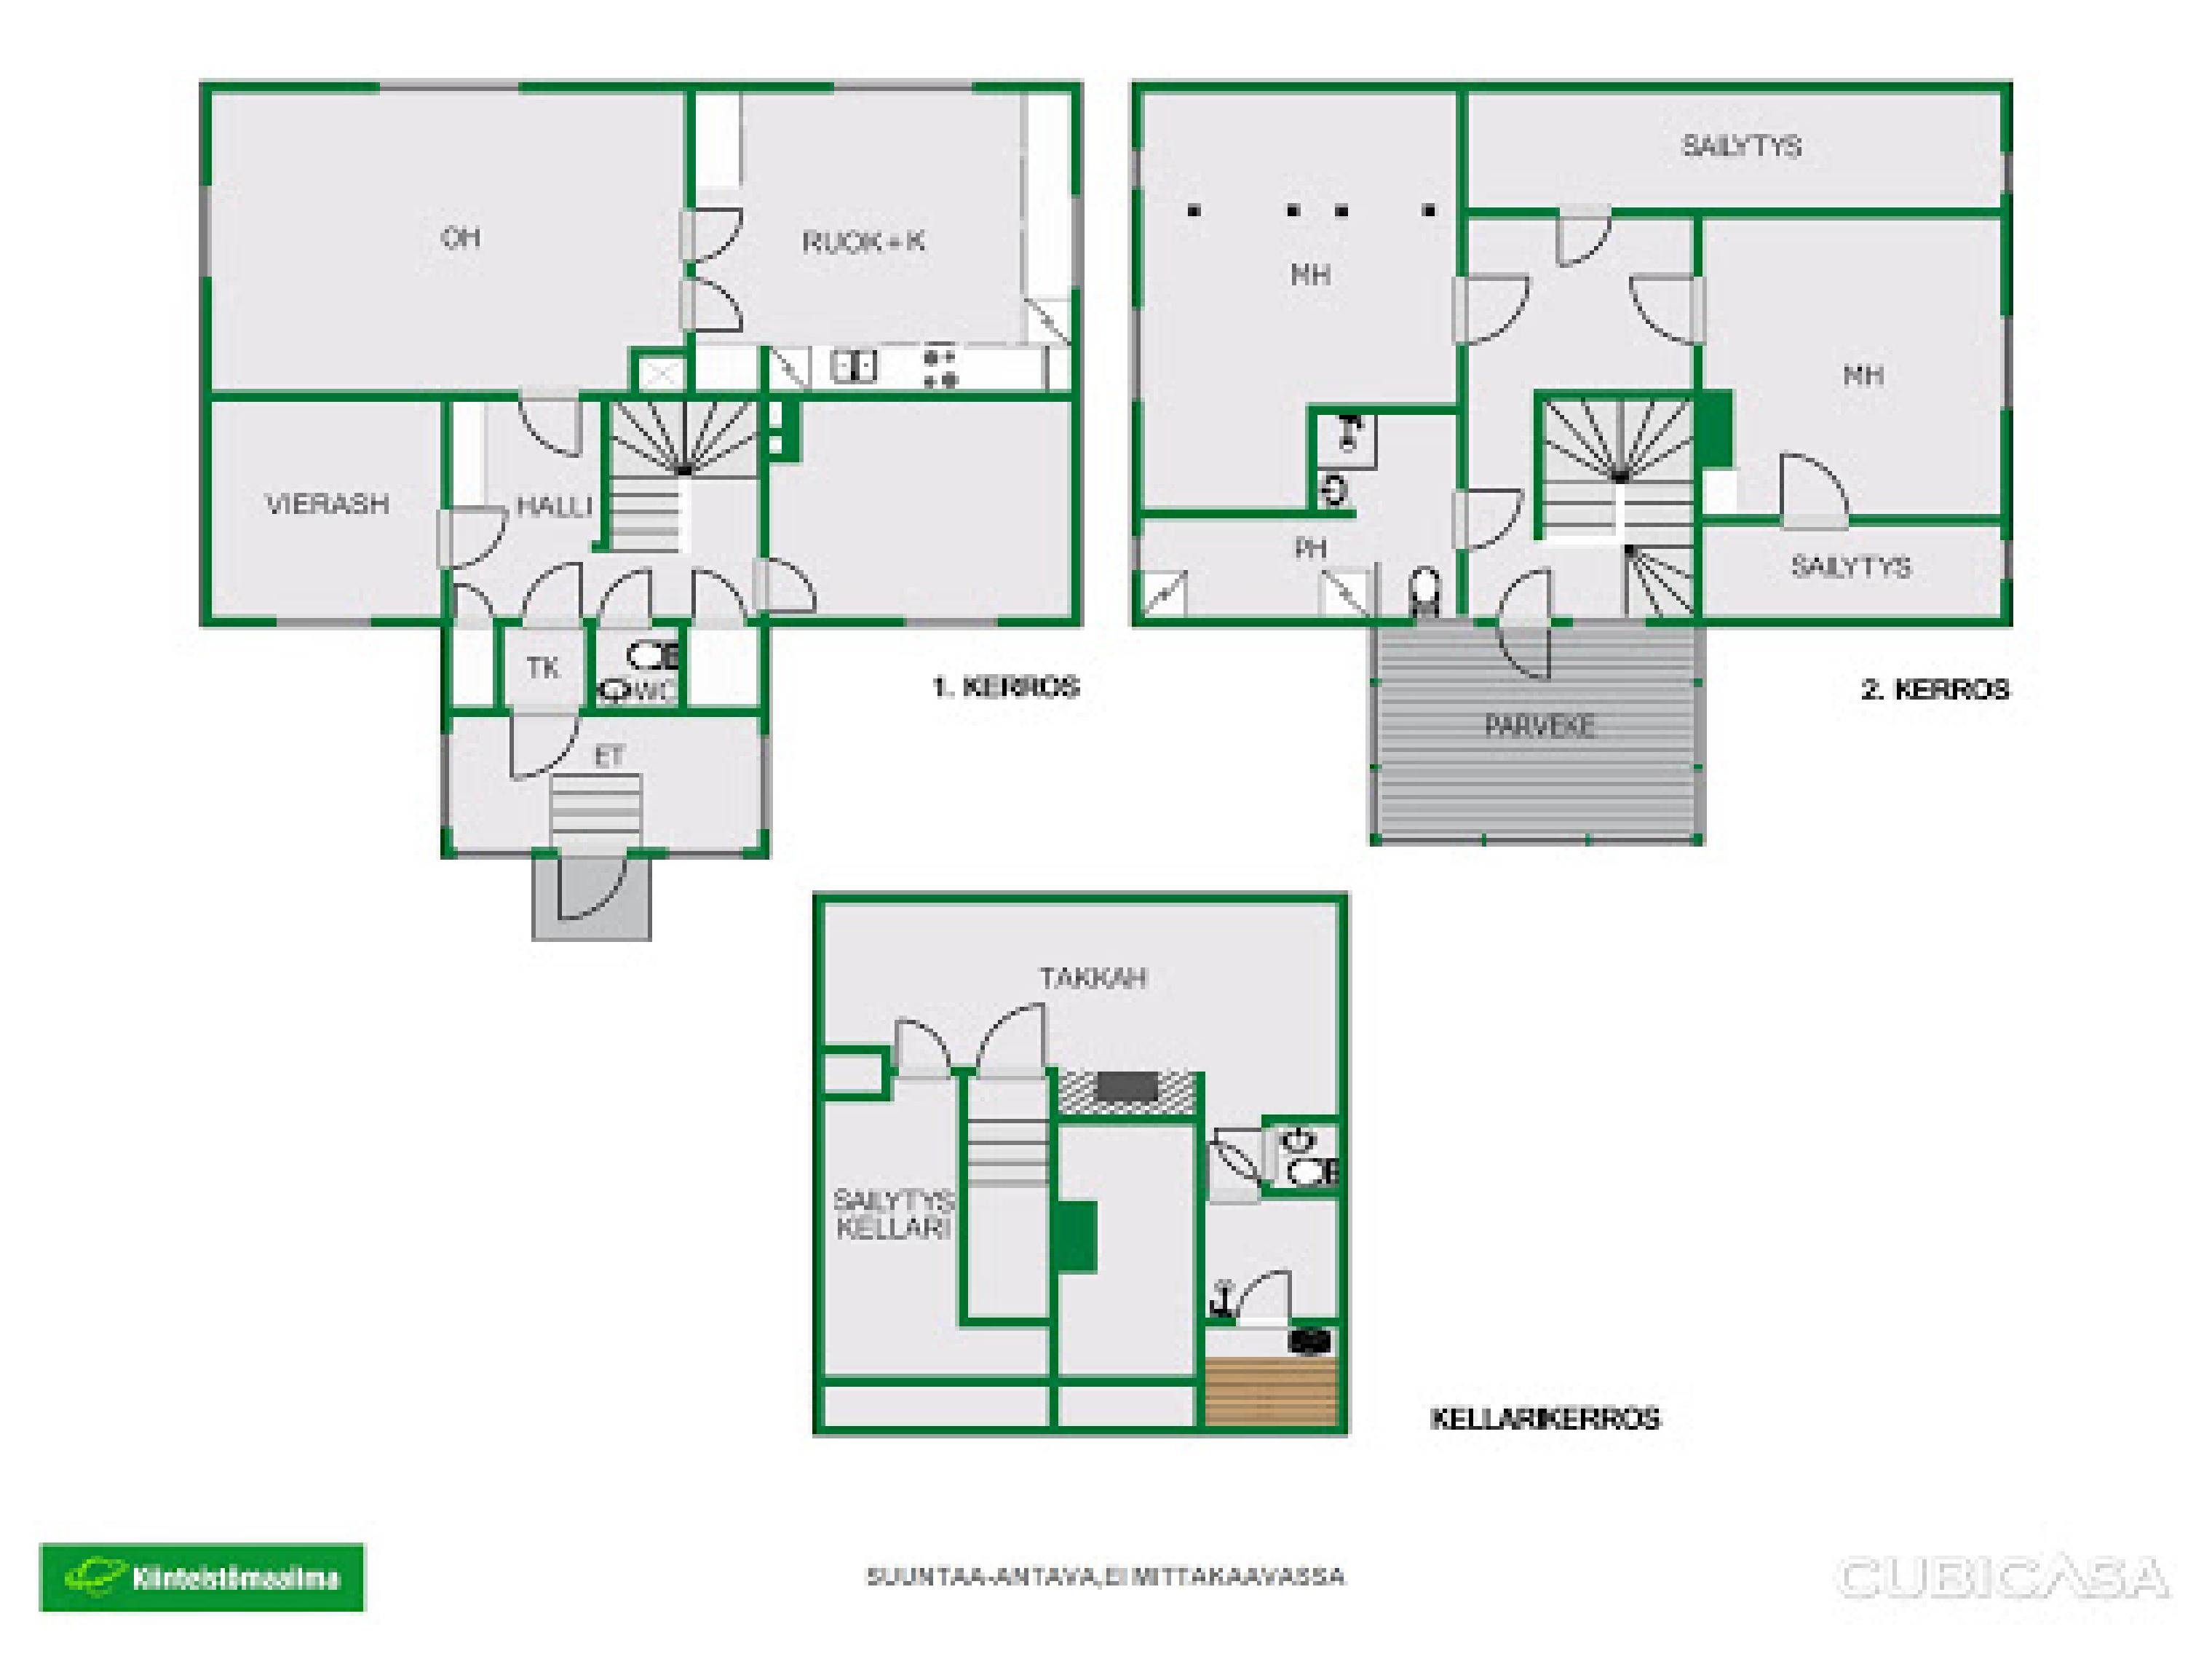door: (1480, 561, 1564, 692), (968, 999, 1059, 1084), (1773, 451, 1851, 535), (1629, 272, 1705, 354), (495, 697, 577, 774), (685, 558, 754, 647), (585, 566, 676, 634), (740, 558, 834, 620), (528, 558, 606, 633), (517, 392, 590, 472), (1454, 274, 1538, 343), (556, 840, 625, 918), (674, 204, 749, 274), (1449, 486, 1529, 545), (1554, 202, 1611, 277), (435, 512, 514, 566), (892, 1014, 954, 1077), (1235, 1265, 1305, 1321), (676, 279, 740, 336), (448, 589, 503, 629)
window: (831, 68, 975, 99), (268, 606, 376, 636), (376, 75, 519, 94), (1122, 305, 1148, 408), (897, 612, 1015, 631), (1996, 310, 2020, 401), (441, 734, 465, 823), (1066, 195, 1087, 291), (669, 836, 754, 859), (465, 836, 535, 863), (197, 186, 218, 272), (754, 730, 766, 823), (1125, 150, 1146, 195), (2000, 538, 2019, 580), (2001, 150, 2017, 190), (1130, 540, 1148, 570)
zone: (204, 91, 686, 390), (1144, 89, 1454, 507), (693, 89, 1071, 389), (826, 897, 1332, 1112), (1698, 221, 1993, 512), (1468, 216, 1677, 610), (766, 394, 1068, 615), (829, 1087, 1050, 1375), (772, 397, 1066, 612), (1144, 413, 1458, 610), (1385, 627, 1695, 826), (1472, 92, 2005, 204), (214, 401, 444, 615), (453, 713, 758, 845), (1205, 1119, 1339, 1419), (1059, 1117, 1190, 1378), (453, 404, 613, 613), (613, 404, 749, 608), (1705, 523, 2000, 615), (824, 1375, 1049, 1427), (594, 627, 681, 701), (505, 626, 580, 708), (690, 622, 758, 706), (1055, 1389, 1191, 1427)
